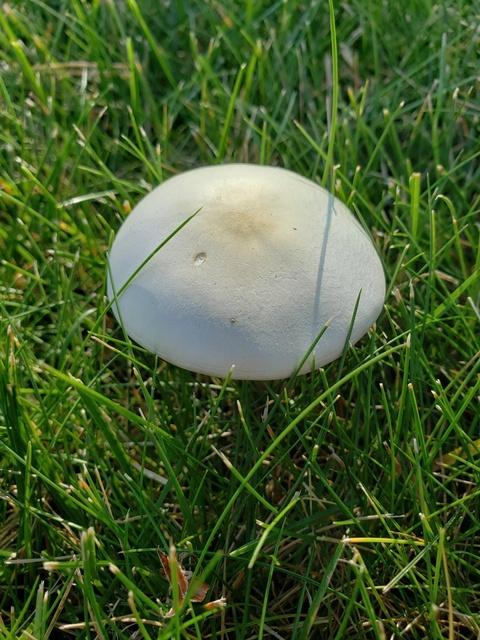poisonous_mushroom: (104, 161, 387, 381)
